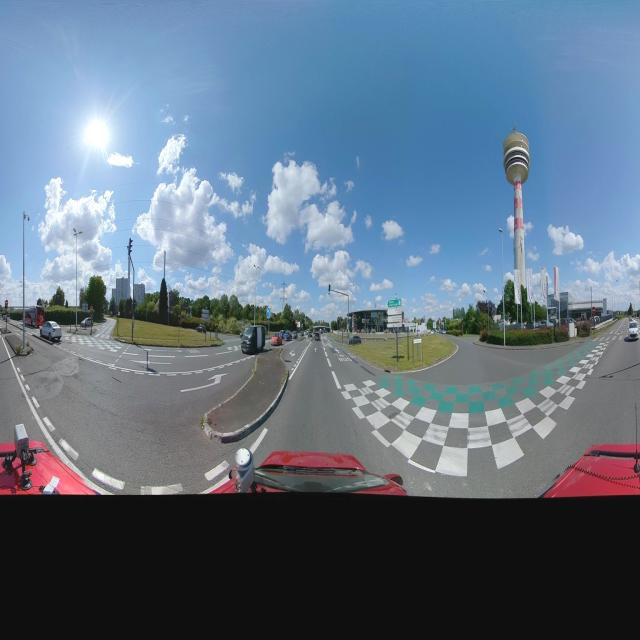car: (241, 324, 265, 354), (39, 319, 62, 343), (626, 319, 640, 342), (270, 332, 284, 347), (80, 318, 94, 328), (347, 336, 361, 344), (196, 324, 207, 333), (284, 331, 292, 342), (314, 332, 320, 341), (292, 331, 298, 339), (308, 331, 312, 338), (300, 331, 304, 336)
